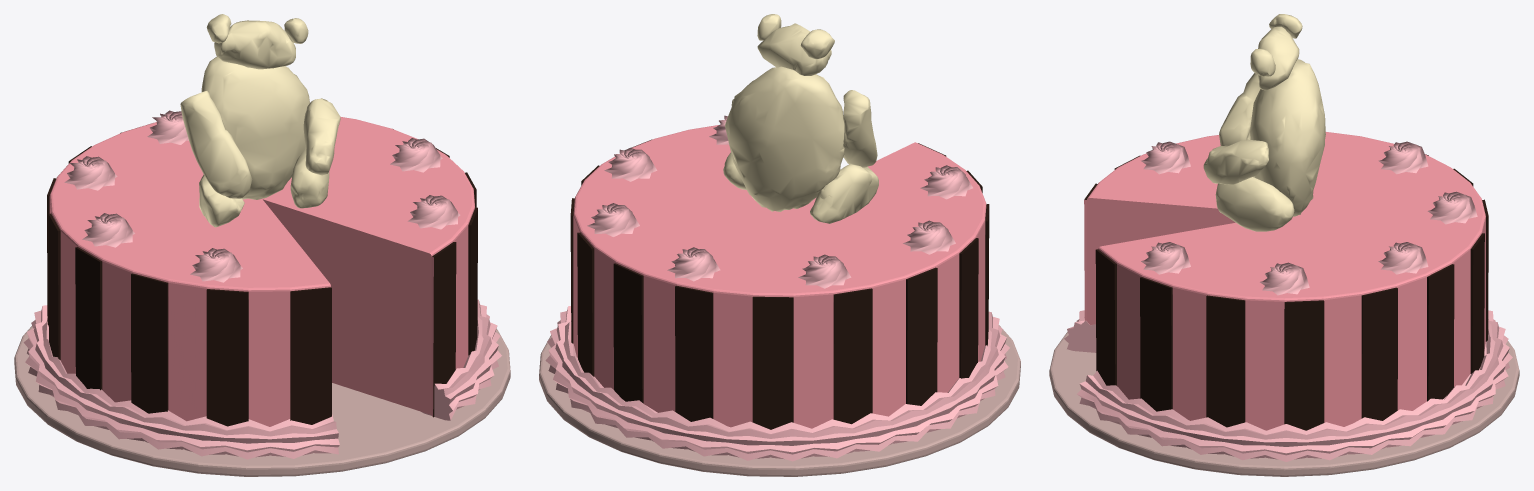
File: cake.obj
3 views of the same model, side by side, from view 1: azimuth 30°, elevation 25°; view 2: azimuth 150°, elevation 25°; view 3: azimuth 270°, elevation 25° (orthographic). The views are drawn at different scales.
Parts seen in each view (by area): view 1: Cylinder002, Cylinder001, Star001, GeoSphere01, objSTL_Model, objhead, objleft_arm, objleft_foot, objright_foot, Cone007, Cone003, Cone001 (+4 smaller); view 2: Cylinder002, Star001, GeoSphere01, Cylinder001, objright_foot, objSTL_Model, objhead, Cone003, Cone008, Cone001, Cone007, Cone002 (+2 smaller); view 3: Cylinder002, Star001, Cylinder001, GeoSphere01, objleft_foot, objleft_arm, objhead, objSTL_Model, Cone002, Cone005, Cone006, Cone001 (+4 smaller).
Part boxes in pixels (left/top/right/bottom): Cylinder002: left=47, top=116, right=477, bottom=426; Cylinder001: left=14, top=326, right=510, bottom=476; Star001: left=23, top=299, right=501, bottom=459; GeoSphere01: left=201, top=56, right=309, bottom=199; objSTL_Model: left=180, top=91, right=252, bottom=198; objhead: left=214, top=20, right=295, bottom=69; objleft_arm: left=303, top=98, right=340, bottom=175; objleft_foot: left=290, top=149, right=329, bottom=208; objright_foot: left=199, top=174, right=244, bottom=227; Cone007: left=190, top=248, right=242, bottom=282; Cone003: left=82, top=213, right=134, bottom=247; Cone001: left=390, top=138, right=442, bottom=172; Cylinder002: left=570, top=125, right=989, bottom=429; Star001: left=545, top=306, right=1009, bottom=461; GeoSphere01: left=725, top=66, right=844, bottom=211; Cylinder001: left=539, top=325, right=1020, bottom=476; objright_foot: left=810, top=164, right=878, bottom=223; objSTL_Model: left=843, top=90, right=877, bottom=167; objhead: left=757, top=23, right=831, bottom=75; Cone003: left=903, top=220, right=955, bottom=254; Cone008: left=798, top=254, right=851, bottom=288; Cone001: left=604, top=147, right=657, bottom=181; Cone007: left=920, top=165, right=972, bottom=199; Cone002: left=667, top=247, right=720, bottom=281; Cylinder002: left=1084, top=132, right=1488, bottom=430; Star001: left=1064, top=310, right=1512, bottom=461; Cylinder001: left=1049, top=332, right=1519, bottom=476; GeoSphere01: left=1249, top=59, right=1325, bottom=216; objleft_foot: left=1215, top=177, right=1294, bottom=231; objleft_arm: left=1203, top=140, right=1268, bottom=184; objhead: left=1257, top=26, right=1299, bottom=90; objSTL_Model: left=1219, top=73, right=1260, bottom=145; Cone002: left=1427, top=191, right=1477, bottom=224; Cone005: left=1378, top=242, right=1428, bottom=274; Cone006: left=1141, top=242, right=1190, bottom=274; Cone001: left=1260, top=262, right=1309, bottom=295.
Size of the model in its own units: 42 by 34.11 by 42.
